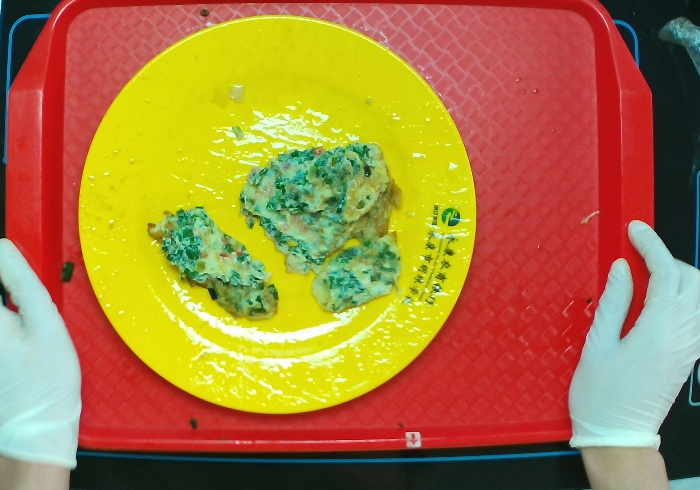YKMZ-Huang_Se_Mian_Pan: (77, 14, 478, 415)
